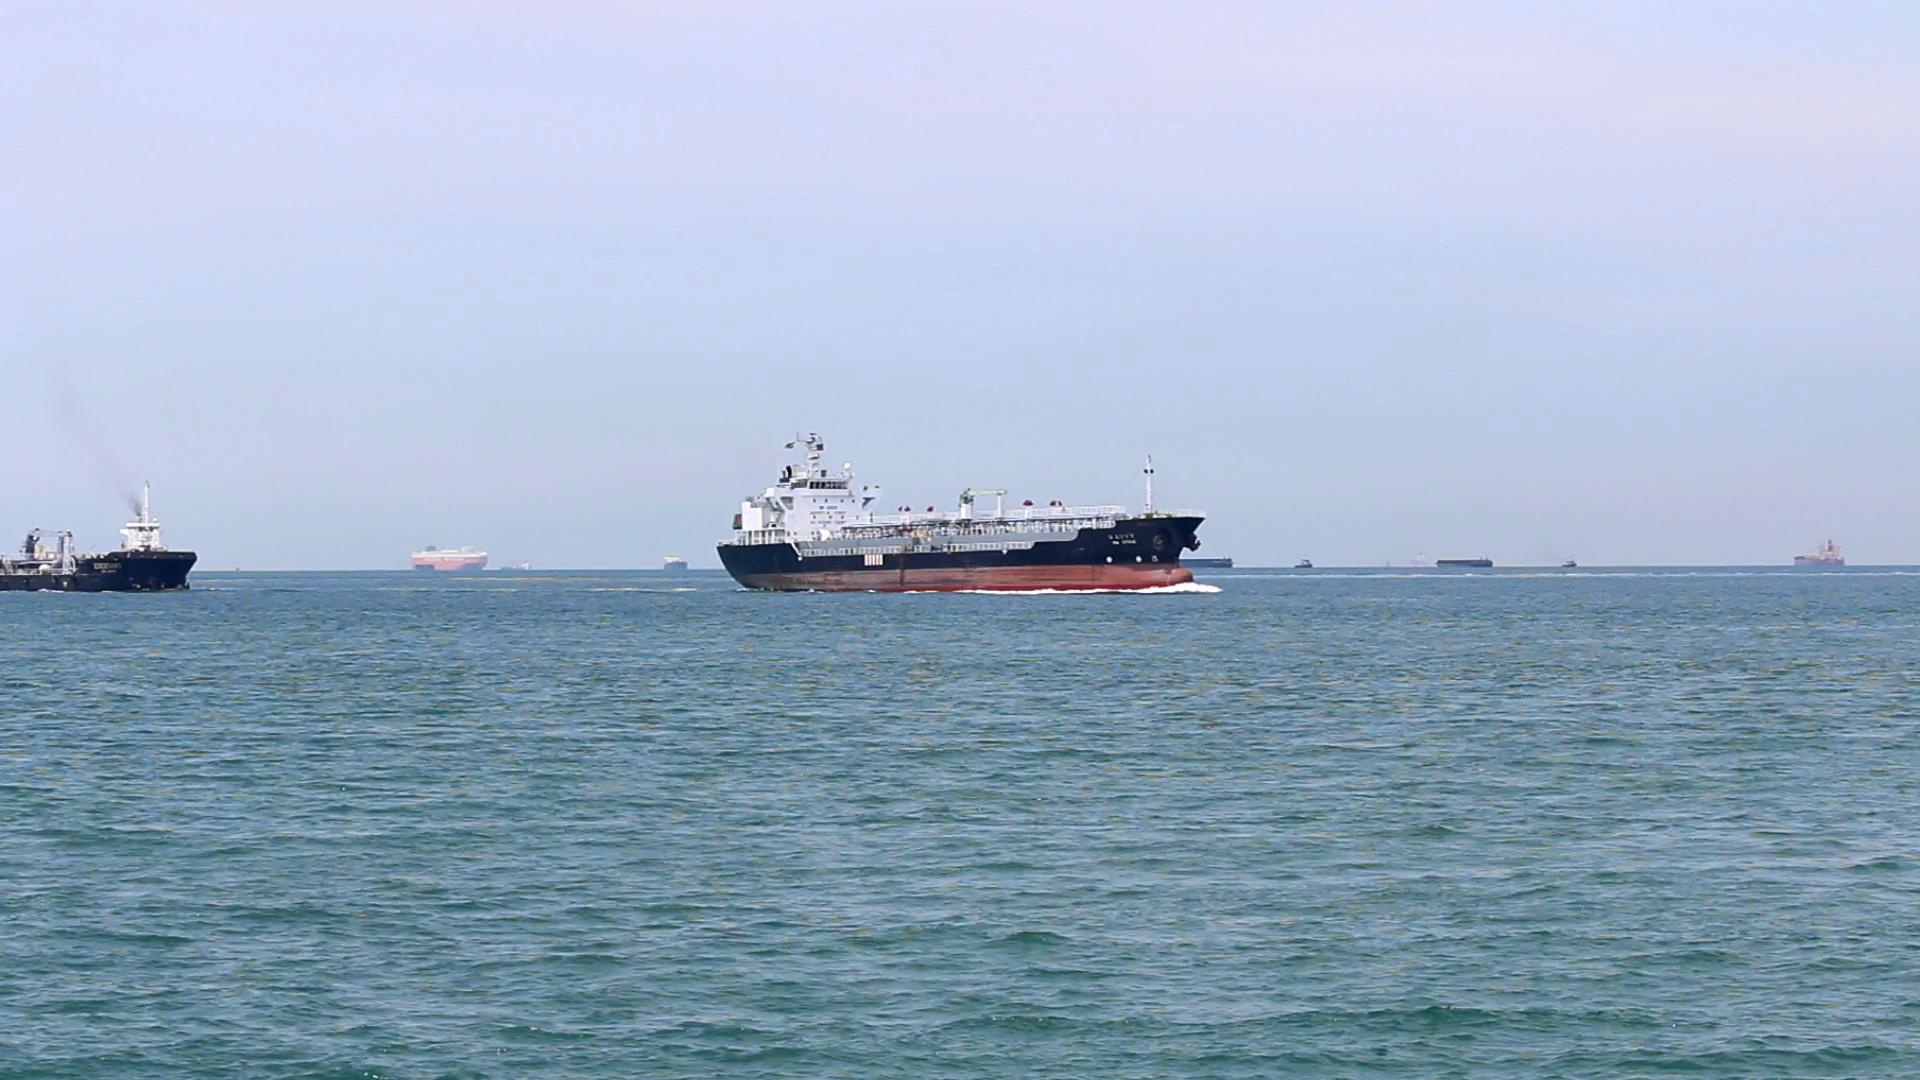Container Ship: (709, 430, 1212, 596), (1, 475, 204, 596), (402, 545, 489, 576), (120, 508, 178, 551), (1793, 535, 1857, 575)
